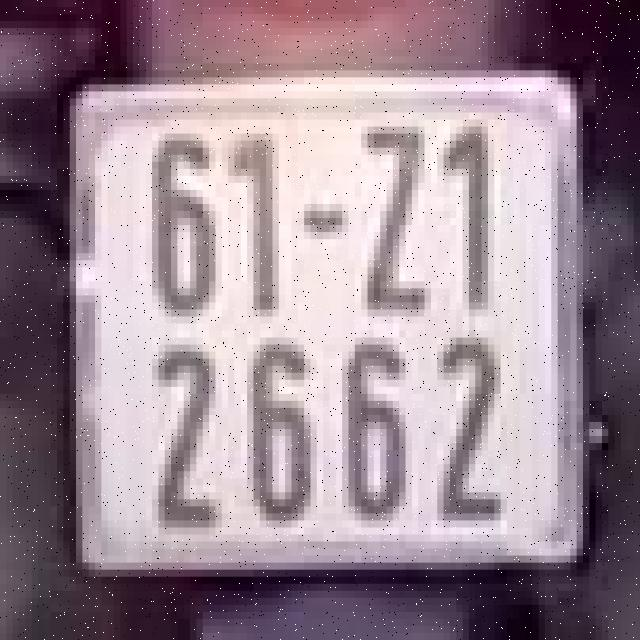1: (437, 109, 513, 313), (225, 126, 288, 324)
2: (431, 334, 519, 531), (140, 338, 228, 534)
6: (136, 130, 225, 320), (241, 327, 323, 531), (336, 330, 412, 528)
Z: (355, 120, 431, 323)
